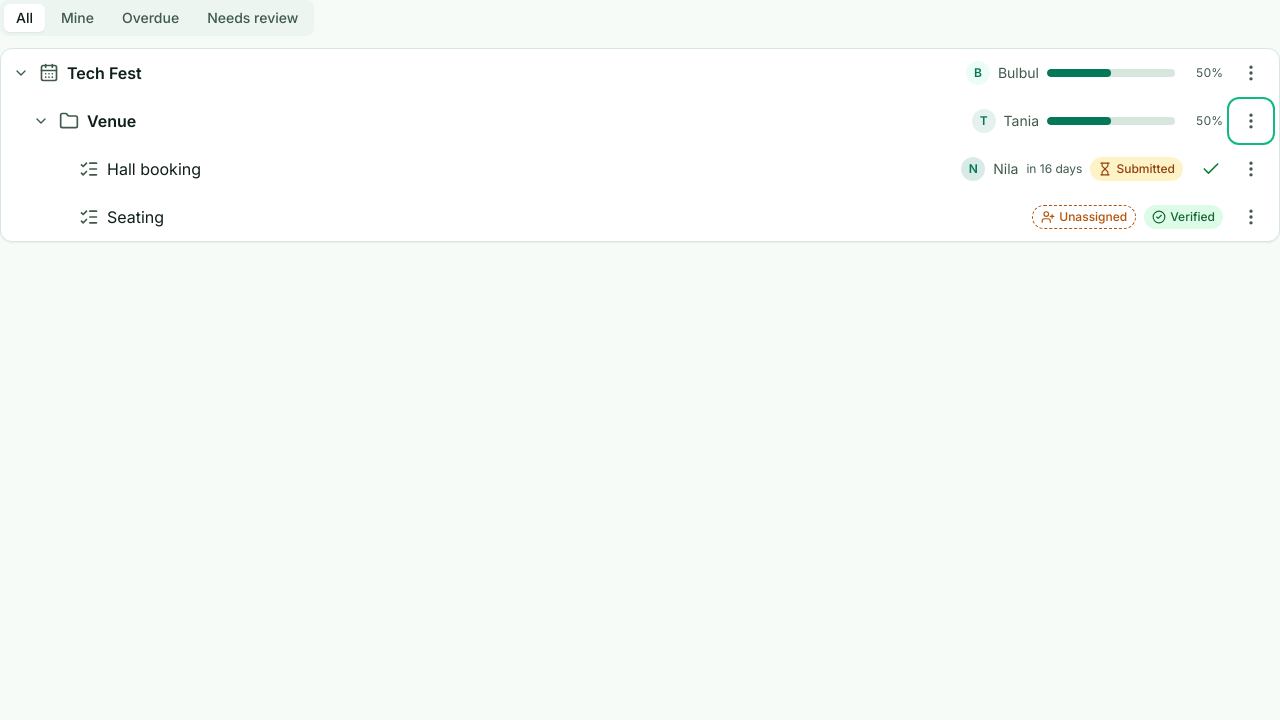
Test: keyboard and focus › a dialog opened from a row menu gives focus back to that row's menu button
Press Enter in the button named "Actions for Venue", box top-left (1231, 101), bottom-right (1271, 141)
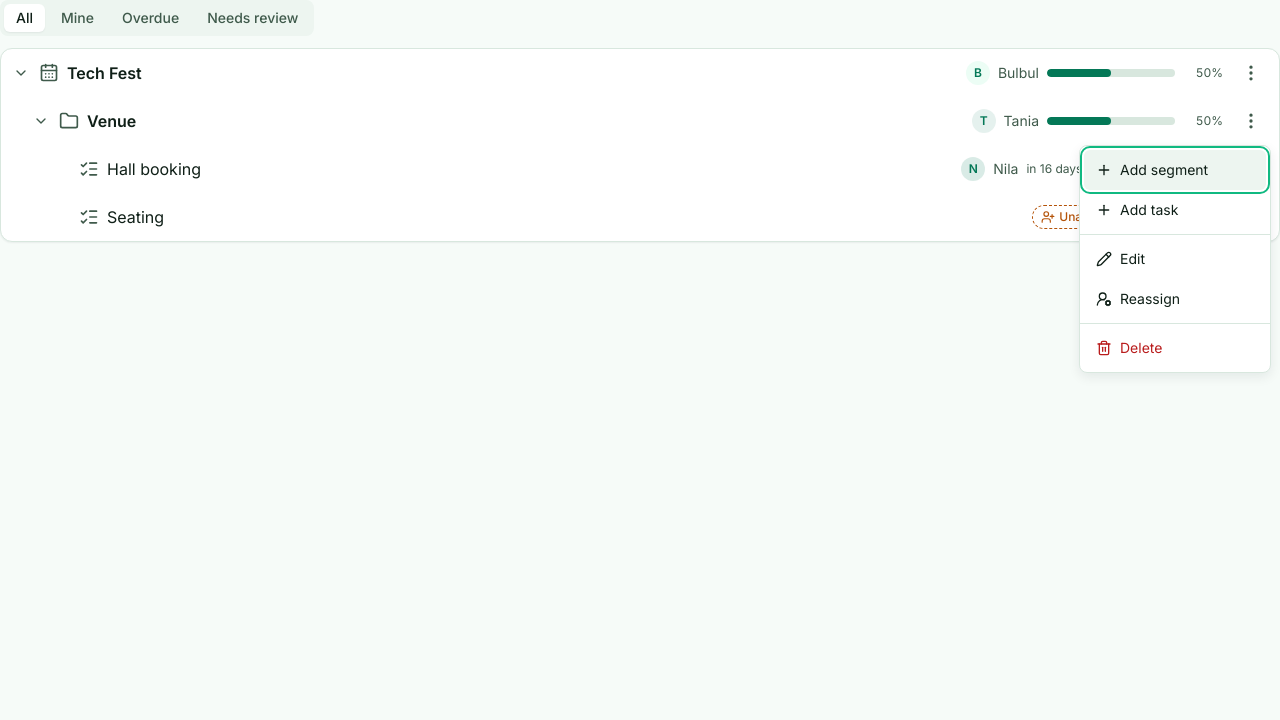
Click the menu item "Add task" at (1137,210), box top-left (1096, 201), bottom-right (1178, 218)
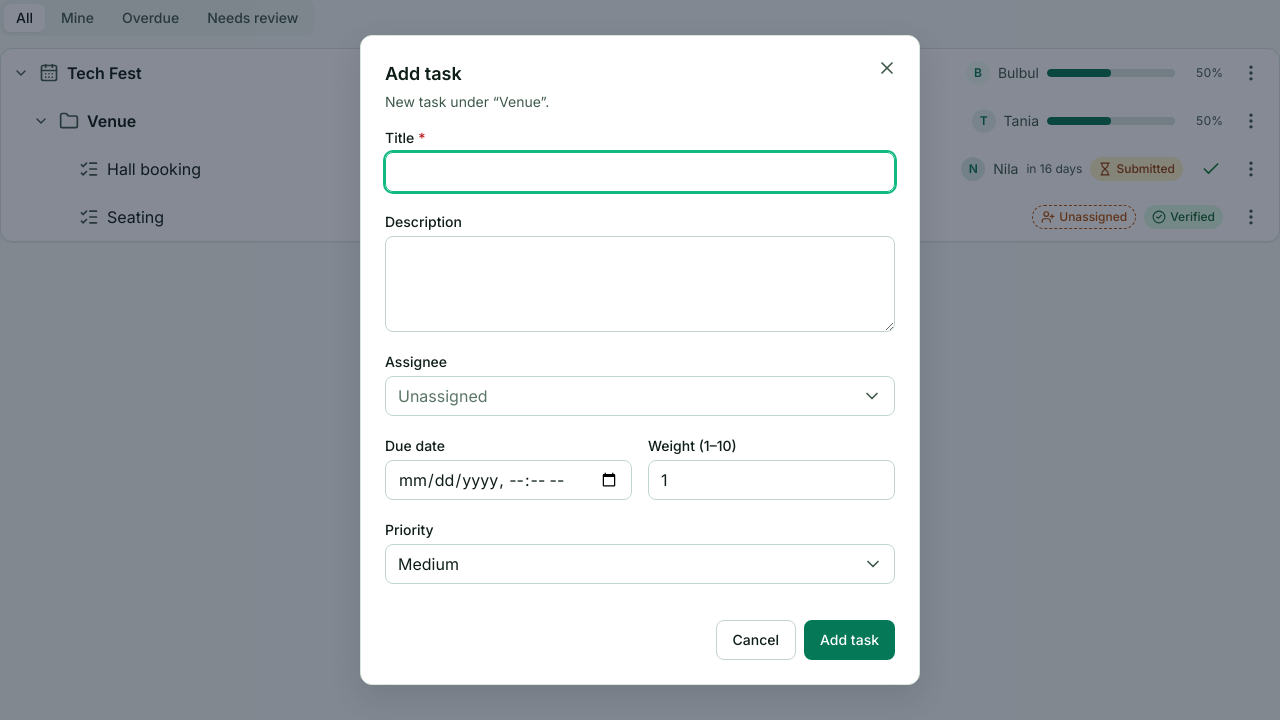
Press Escape in the dialog, box top-left (360, 35), bottom-right (920, 685)
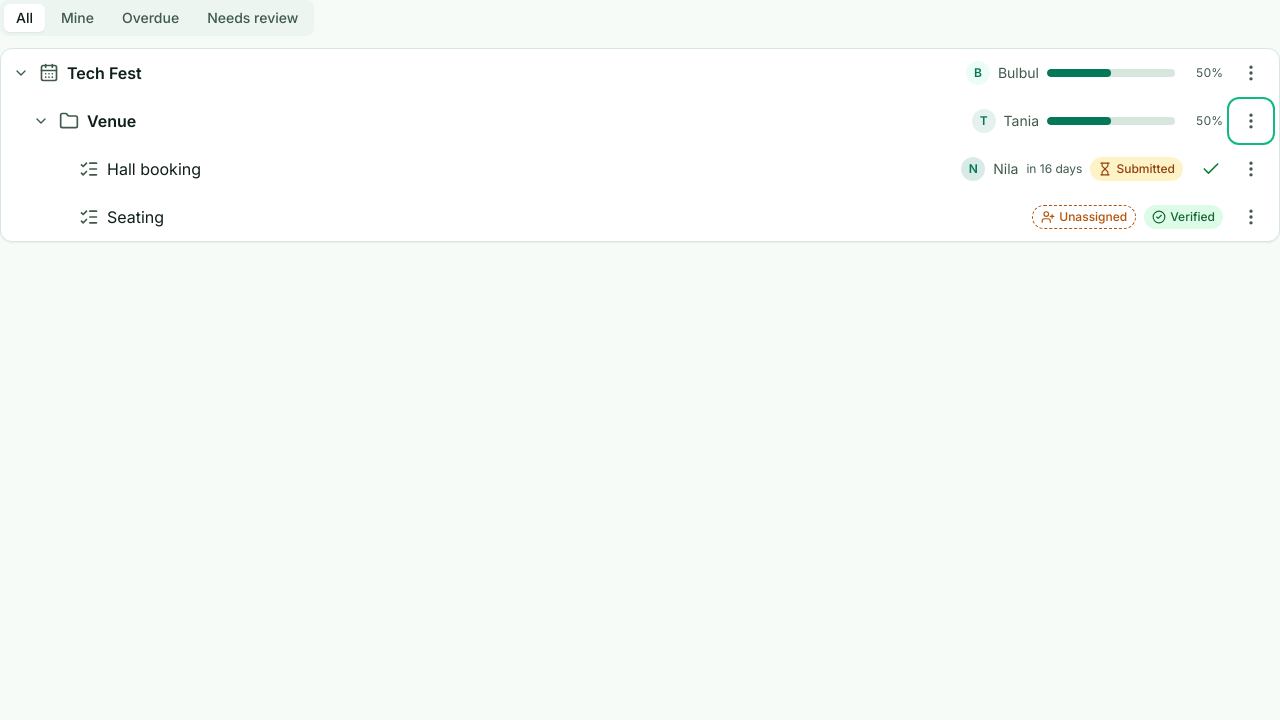
Check: the dialog is gone
